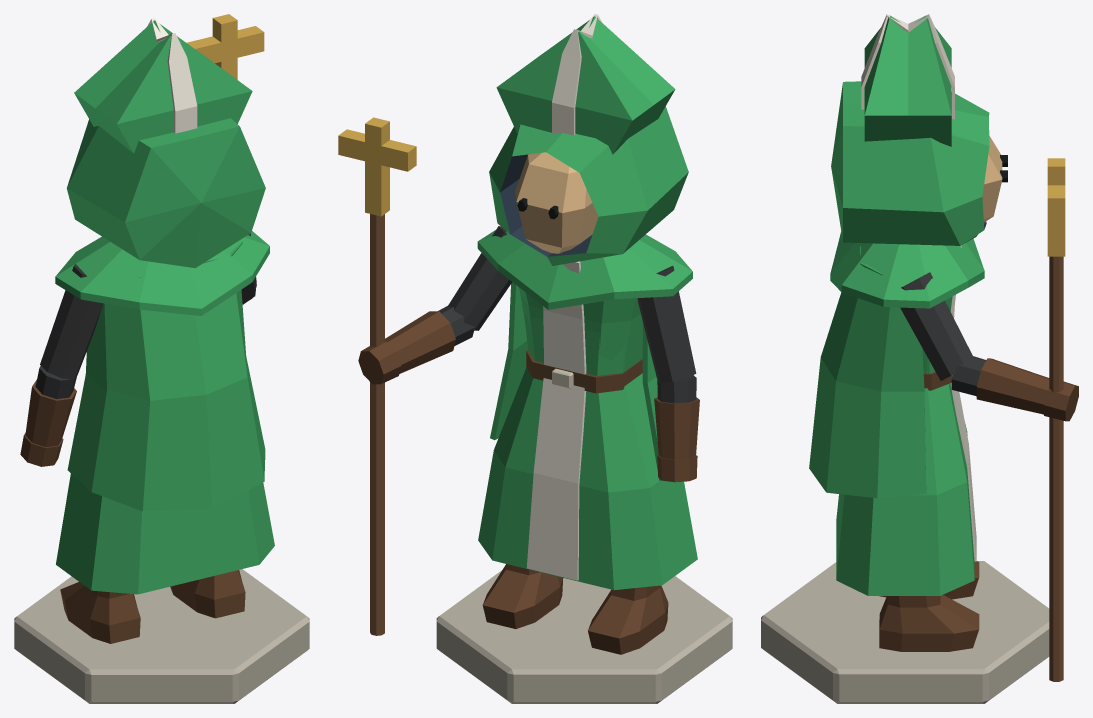
File: human_cleric_t2.glb
3 views of the same model, side by side, from view 1: azimuth 30°, elevation 25°; view 2: azimuth 150°, elevation 25°; view 3: azimuth 270°, elevation 25° (orthographic).
Visible parts, largest first — view 1: Caster_Short_Back_Cape, Foundation_Hexagonal_Stone, Caster_Open_Low_Cowl, Caster_Continuous_Long_Robe, Cleric_Plain_Deep_Mitre_Two_Front_Back_Peaks, Plain_Caster_Shoulder_Mantle, Boot_-1, left_upper_sleeve, Cleric_Exactly_One_Plain_Gold_Latin_Cross, Boot_1, Cleric_One_Connected_Front_Back_Mitre_Ribbon, left_bracer (+2 smaller); view 2: Caster_Continuous_Long_Robe, Foundation_Hexagonal_Stone, Caster_Open_Low_Cowl, Cleric_One_Broad_Front_Stole, Cleric_Plain_Deep_Mitre_Two_Front_Back_Peaks, Plain_Caster_Shoulder_Mantle, Angular_Face, Cleric_One_Plain_Wooden_Cross_Staff_Shaft, Boot_-1, Cleric_Exactly_One_Plain_Gold_Latin_Cross, Boot_1, left_upper_sleeve (+11 smaller); view 3: Foundation_Hexagonal_Stone, Caster_Short_Back_Cape, Caster_Open_Low_Cowl, Caster_Continuous_Long_Robe, Cleric_Plain_Deep_Mitre_Two_Front_Back_Peaks, Plain_Caster_Shoulder_Mantle, Cleric_One_Plain_Wooden_Cross_Staff_Shaft, Boot_1, right_upper_sleeve, right_bracer, Cleric_Exactly_One_Plain_Gold_Latin_Cross, Cleric_One_Connected_Front_Back_Mitre_Ribbon (+4 smaller).
Boxes of the visible parts, <box> form: Caster_Short_Back_Cape: <box>67,289,265,511</box>; Foundation_Hexagonal_Stone: <box>14,569,309,703</box>; Caster_Open_Low_Cowl: <box>66,118,265,268</box>; Caster_Continuous_Long_Robe: <box>56,241,274,594</box>; Cleric_Plain_Deep_Mitre_Two_Front_Back_Peaks: <box>74,20,252,153</box>; Plain_Caster_Shoulder_Mantle: <box>55,231,269,315</box>; Boot_-1: <box>60,582,140,643</box>; left_upper_sleeve: <box>40,264,103,379</box>; Cleric_Exactly_One_Plain_Gold_Latin_Cross: <box>186,14,264,79</box>; Boot_1: <box>170,570,245,618</box>; Cleric_One_Connected_Front_Back_Mitre_Ribbon: <box>147,18,197,133</box>; left_bracer: <box>25,379,76,447</box>; Caster_Continuous_Long_Robe: <box>478,239,697,590</box>; Foundation_Hexagonal_Stone: <box>436,570,732,703</box>; Caster_Open_Low_Cowl: <box>489,106,688,265</box>; Cleric_One_Broad_Front_Stole: <box>526,256,586,580</box>; Cleric_Plain_Deep_Mitre_Two_Front_Back_Peaks: <box>496,16,675,154</box>; Plain_Caster_Shoulder_Mantle: <box>477,230,692,309</box>; Angular_Face: <box>515,152,598,253</box>; Cleric_One_Plain_Wooden_Cross_Staff_Shaft: <box>370,214,384,635</box>; Boot_-1: <box>588,585,668,654</box>; Cleric_Exactly_One_Plain_Gold_Latin_Cross: <box>338,117,416,216</box>; Boot_1: <box>482,564,563,628</box>; left_upper_sleeve: <box>637,266,696,383</box>; Foundation_Hexagonal_Stone: <box>761,561,1049,703</box>; Caster_Short_Back_Cape: <box>809,292,926,498</box>; Caster_Open_Low_Cowl: <box>831,81,989,245</box>; Caster_Continuous_Long_Robe: <box>836,246,974,595</box>; Cleric_Plain_Deep_Mitre_Two_Front_Back_Peaks: <box>864,15,951,146</box>; Plain_Caster_Shoulder_Mantle: <box>830,231,984,308</box>; Cleric_One_Plain_Wooden_Cross_Staff_Shaft: <box>1049,256,1063,681</box>; Boot_1: <box>879,595,979,651</box>; right_upper_sleeve: <box>900,272,973,380</box>; right_bracer: <box>976,358,1049,414</box>; Cleric_Exactly_One_Plain_Gold_Latin_Cross: <box>1047,158,1065,256</box>; Cleric_One_Connected_Front_Back_Mitre_Ribbon: <box>861,14,954,119</box>.
Size of the model in its own units: 1.06 by 2.17 by 0.983.
